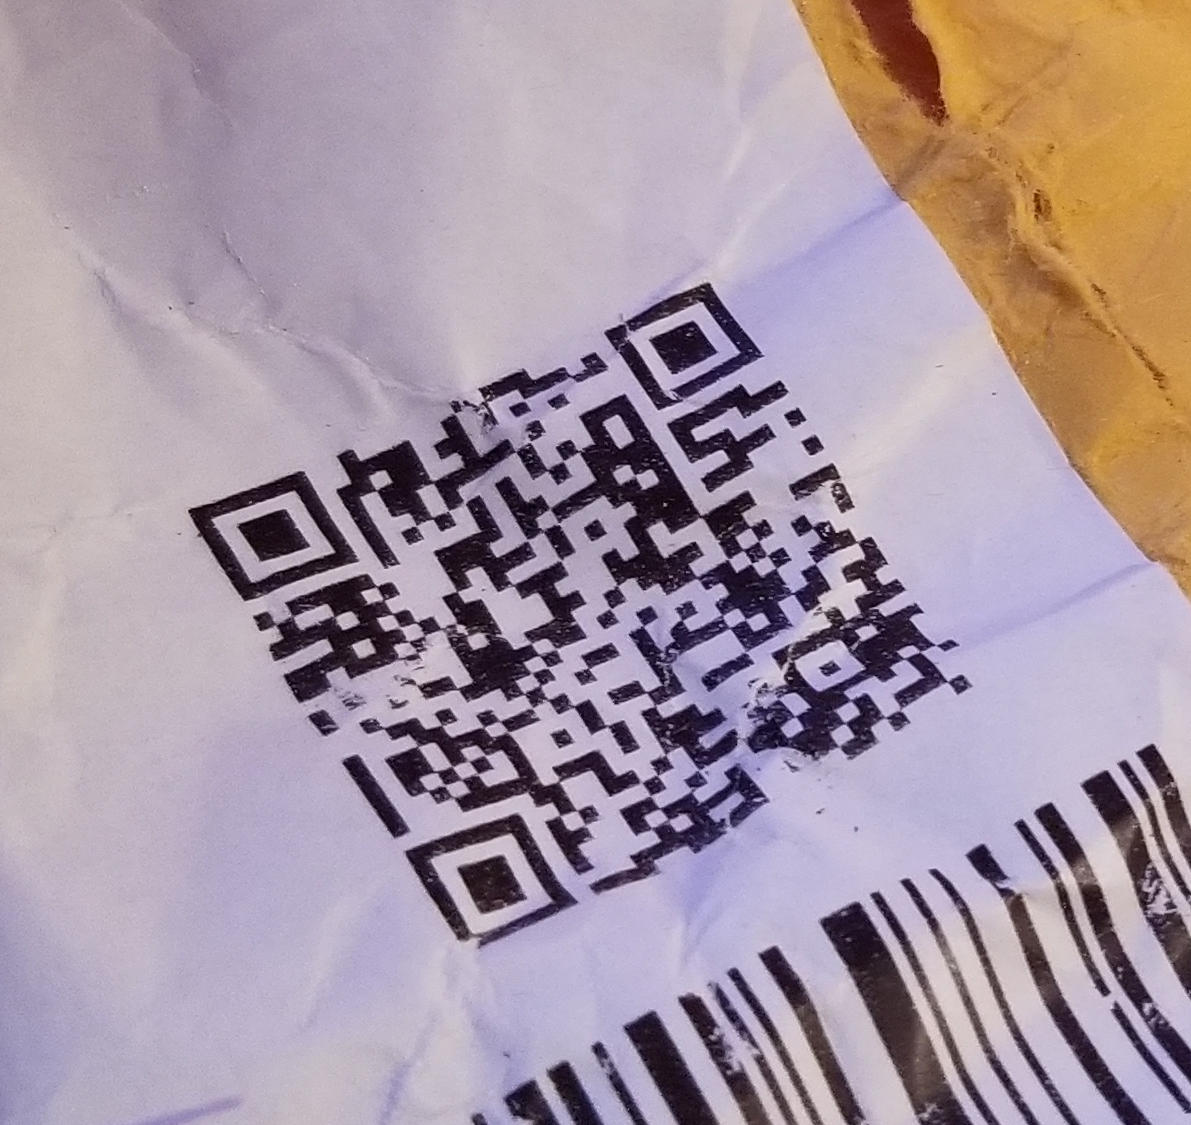QR_CODE: (175, 269, 992, 962)
